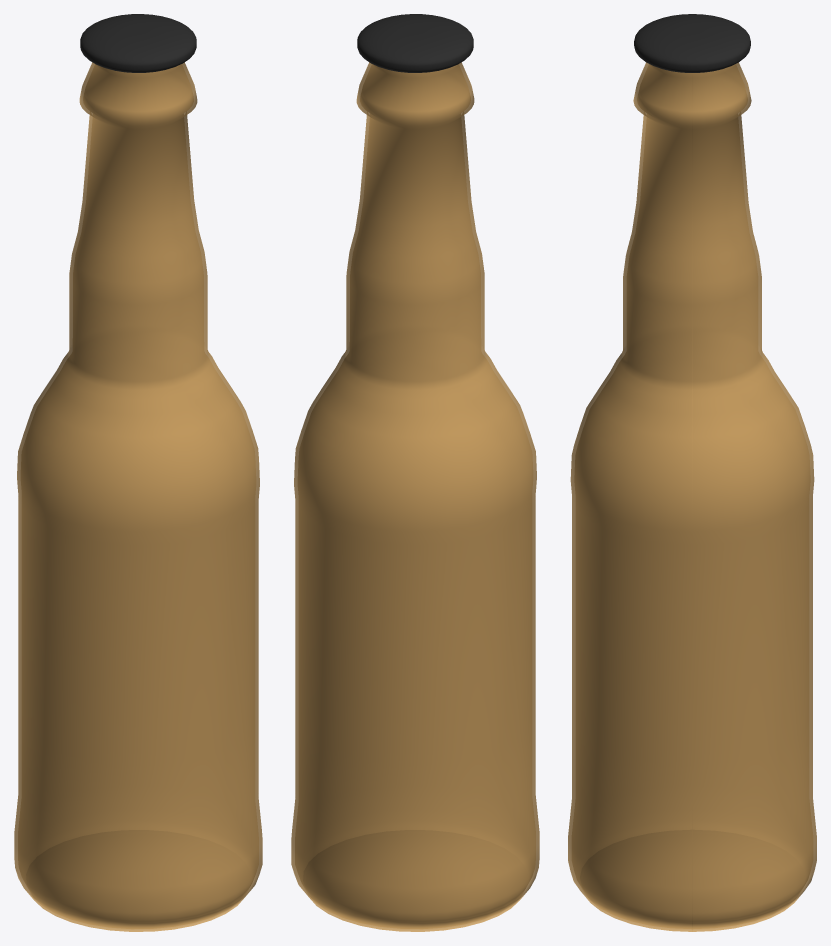
The model's file is bearBottle15.gltf.
The picture shows the model from 3 angles, left to right: view 1: azimuth 30°, elevation 25°; view 2: azimuth 150°, elevation 25°; view 3: azimuth 270°, elevation 25°; orthographic projection.
Visible parts, largest first — view 1: Cylinder, Cylinder.001; view 2: Cylinder, Cylinder.001; view 3: Cylinder, Cylinder.001.
Part boxes in pixels (left/top/right/bottom): Cylinder: left=14, top=62, right=262, bottom=931; Cylinder.001: left=80, top=14, right=196, bottom=72; Cylinder: left=291, top=62, right=539, bottom=931; Cylinder.001: left=357, top=14, right=473, bottom=72; Cylinder: left=568, top=62, right=816, bottom=931; Cylinder.001: left=634, top=14, right=750, bottom=72.
Bounding box in the file's own units: 2 × 7.62 × 2.
